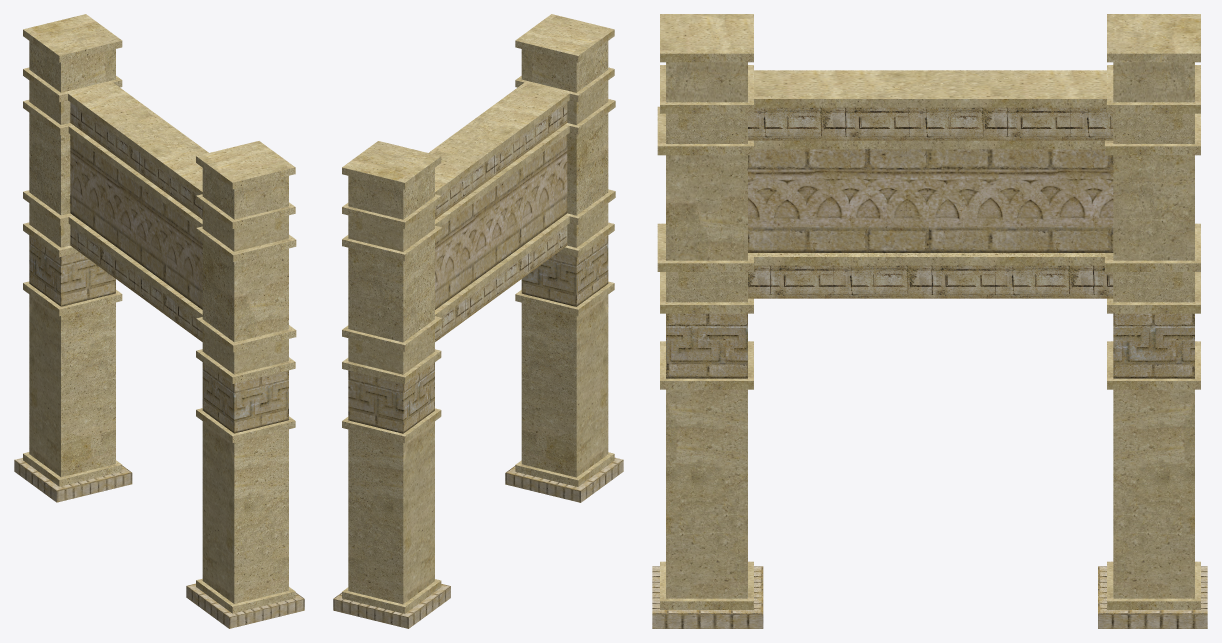
The model's file is bridge_structure_final_gate_facade_center.dae.
3 renders of one model, left to right at view 1: azimuth 30°, elevation 25°; view 2: azimuth 150°, elevation 25°; view 3: azimuth 270°, elevation 25°, orthographic. The views are drawn at different scales.
Parts seen in each view (by area): view 1: bridge_structure_final_gate_facade_center; view 2: bridge_structure_final_gate_facade_center; view 3: bridge_structure_final_gate_facade_center.
Part boxes in pixels (box(x1,y1,x2,y2)): bridge_structure_final_gate_facade_center: box(14, 14, 304, 628); bridge_structure_final_gate_facade_center: box(333, 14, 623, 628); bridge_structure_final_gate_facade_center: box(652, 14, 1207, 628).
Bounding box in the file's own units: 3.62 × 17.9 × 20.32.
Materials: 5 (5 with a texture image).
